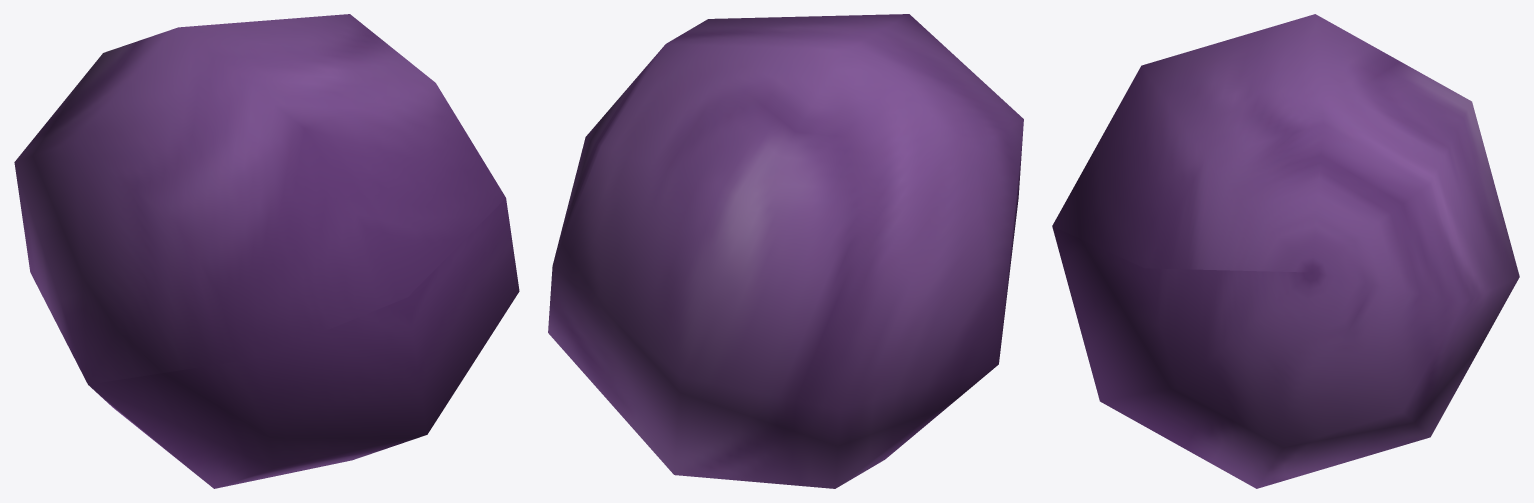
The model's file is SM_PROP_food_plum.FBX.
The picture shows the model from 3 angles, left to right: view 1: azimuth 30°, elevation 25°; view 2: azimuth 150°, elevation 25°; view 3: azimuth 270°, elevation 25°; orthographic projection. The views are drawn at different scales.
Parts seen in each view (by area): view 1: SM_PROP_food_plum; view 2: SM_PROP_food_plum; view 3: SM_PROP_food_plum.
Boxes of the visible parts, x1,y1,x2,y2 form: SM_PROP_food_plum: (14,14,519,488); SM_PROP_food_plum: (548,14,1023,488); SM_PROP_food_plum: (1052,14,1519,488).
Bounding box in the file's own units: 8.16 × 9.08 × 8.8.
